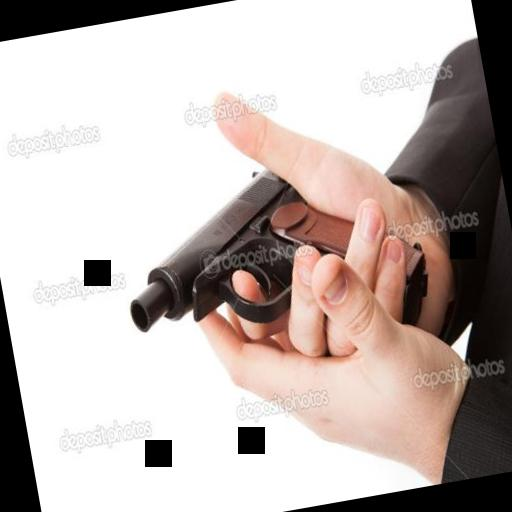Handgun: (96, 92, 452, 419)
